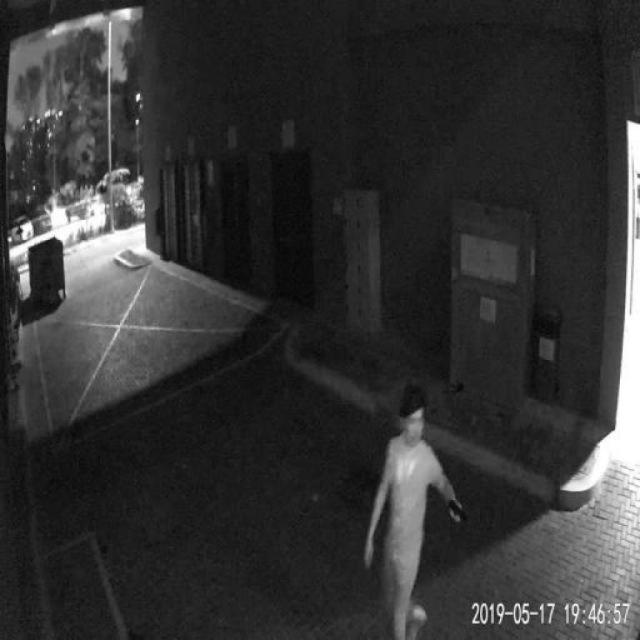pistol: (446, 495, 466, 521)
